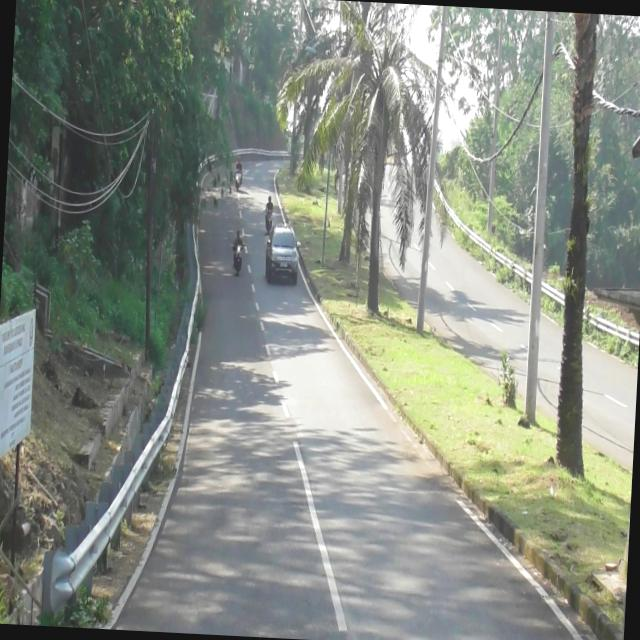motorcycle: (232, 244, 242, 276), (264, 207, 274, 235), (234, 170, 241, 189)
person: (234, 230, 245, 248), (266, 194, 274, 212), (235, 157, 242, 173)
rider_region: (230, 228, 244, 276), (262, 189, 276, 236), (234, 154, 243, 188)
